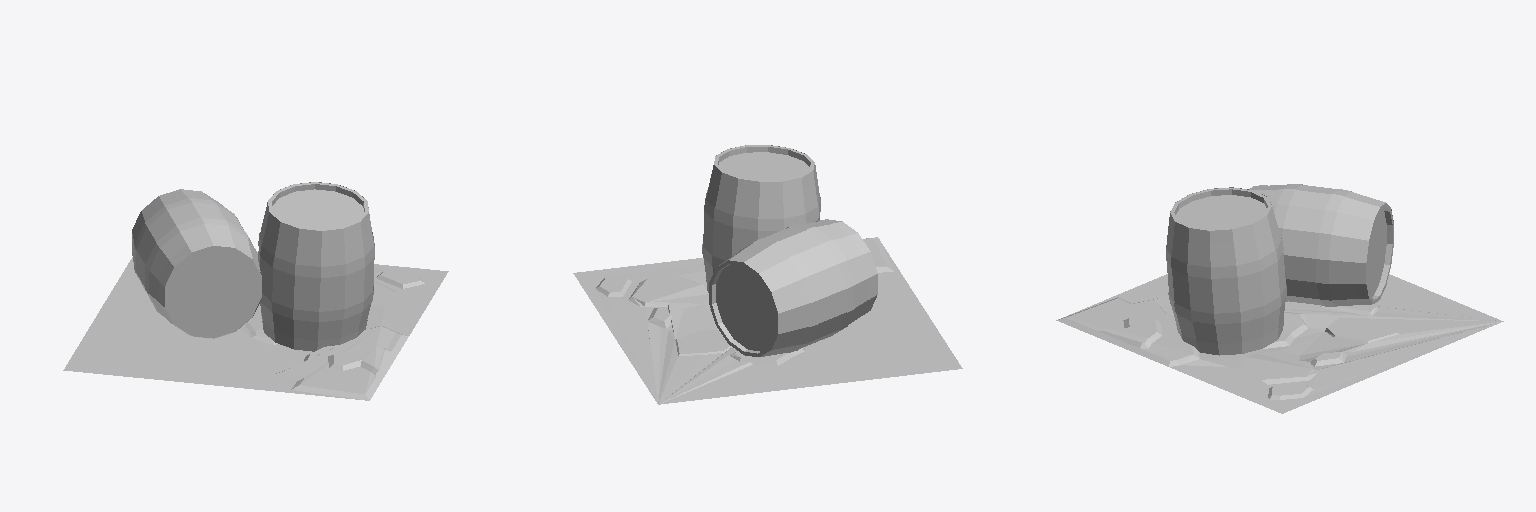
The model's file is BARRELOBJ.obj.
3 views of the same model, side by side, from view 1: azimuth 30°, elevation 25°; view 2: azimuth 150°, elevation 25°; view 3: azimuth 270°, elevation 25° (orthographic).
Visible parts, largest first — view 1: Plano, BARR_Cylinder.002, BARR.001_Cylinder.004; view 2: Plano, BARR.001_Cylinder.004, BARR_Cylinder.002; view 3: Plano, BARR_Cylinder.002, BARR.001_Cylinder.004.
Boxes of the visible parts, x1,y1,x2,y2 form: Plano: [63, 252, 448, 400]; BARR_Cylinder.002: [258, 182, 374, 351]; BARR.001_Cylinder.004: [132, 189, 261, 338]; Plano: [573, 237, 962, 404]; BARR.001_Cylinder.004: [709, 219, 877, 357]; BARR_Cylinder.002: [702, 145, 820, 292]; Plano: [1056, 274, 1503, 413]; BARR_Cylinder.002: [1166, 187, 1286, 355]; BARR.001_Cylinder.004: [1249, 184, 1393, 306].
Size of the model in its own units: 7.13 by 2.33 by 7.13.